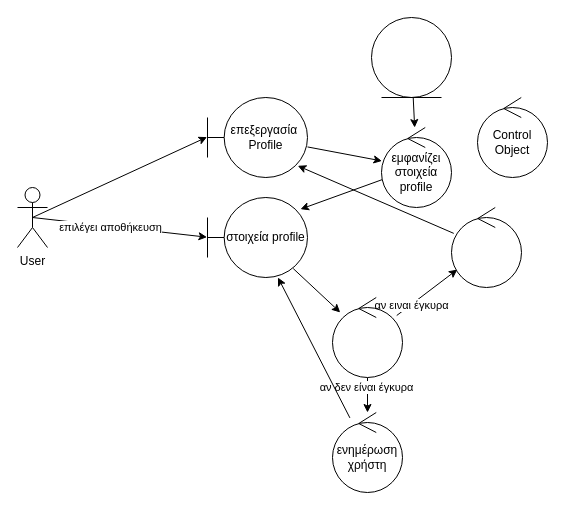
Some shapes in this 565 by 510 pixel diagram are drawn without their labels. The shapes that lost their labels are listed below. From the top down, each one's box as (x1, y1, x2, y2) in pixels, then its label:
(370, 16, 452, 98): User profile
(450, 206, 522, 288): ενημερώνει τον χρήστη
(332, 296, 402, 378): ελέγχει εγκυρότητα
